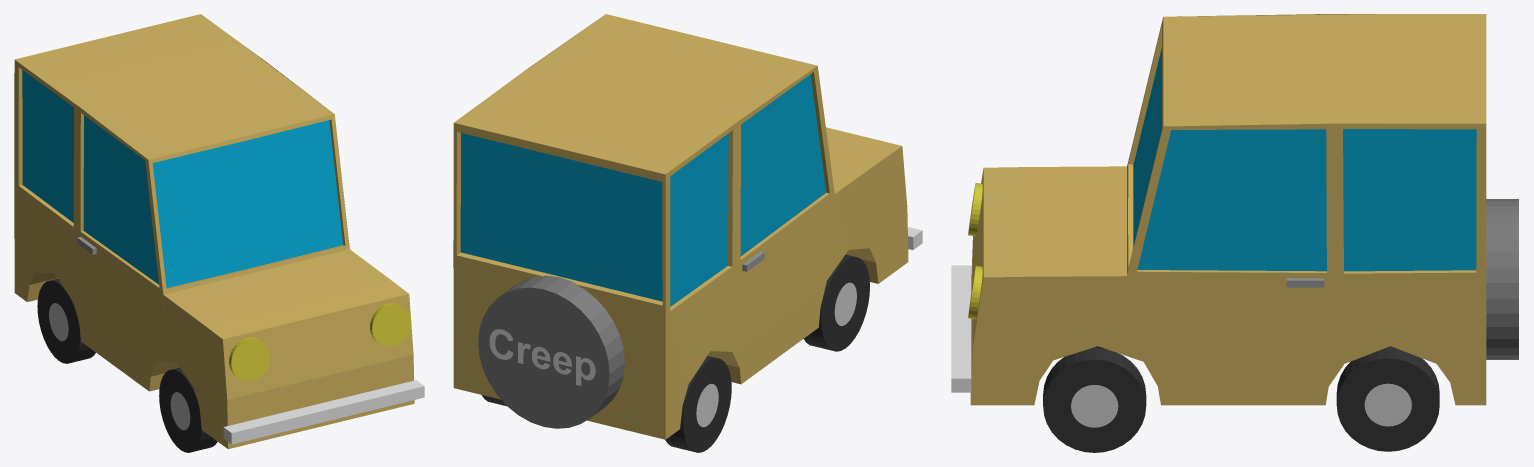
File: hatchback.fbx
The picture shows the model from 3 angles, left to right: view 1: azimuth 30°, elevation 25°; view 2: azimuth 150°, elevation 25°; view 3: azimuth 270°, elevation 25°; orthographic projection. The views are drawn at different scales.
Parts seen in each view (by area): view 1: Vehicle Chassis, Windows, Front Bumper.002, Rear Right Tire.001, Front Right Tire.001, Left Headlight.001, Left Headlight.002; view 2: Vehicle Chassis, Windows, Rear Spare, Front Right Tire.001, Rear Right Tire.001, Text; view 3: Vehicle Chassis, Windows, Front-Left-Tire.001, Rear Left Tire.001, Rear Spare, Front Bumper.002.
Part boxes in pixels (x1,y1,x2,y2): Vehicle Chassis: (14,14,414,449); Windows: (22,70,343,287); Front Bumper.002: (223,380,424,444); Rear Right Tire.001: (37,278,95,363); Front Right Tire.001: (159,367,217,452); Left Headlight.001: (229,337,270,381); Left Headlight.002: (370,303,411,346); Vehicle Chassis: (453,14,908,439); Windows: (460,74,826,306); Rear Spare: (478,275,624,428); Front Right Tire.001: (804,254,869,351); Rear Right Tire.001: (665,356,731,452); Text: (489,329,595,385); Vehicle Chassis: (970,14,1486,405); Windows: (1133,48,1476,271); Front-Left-Tire.001: (1043,347,1146,452); Rear Left Tire.001: (1336,346,1439,451); Rear Spare: (1486,199,1518,359); Front Bumper.002: (951,265,971,392).
Bounding box in the file's own units: 208 × 278 × 435.
